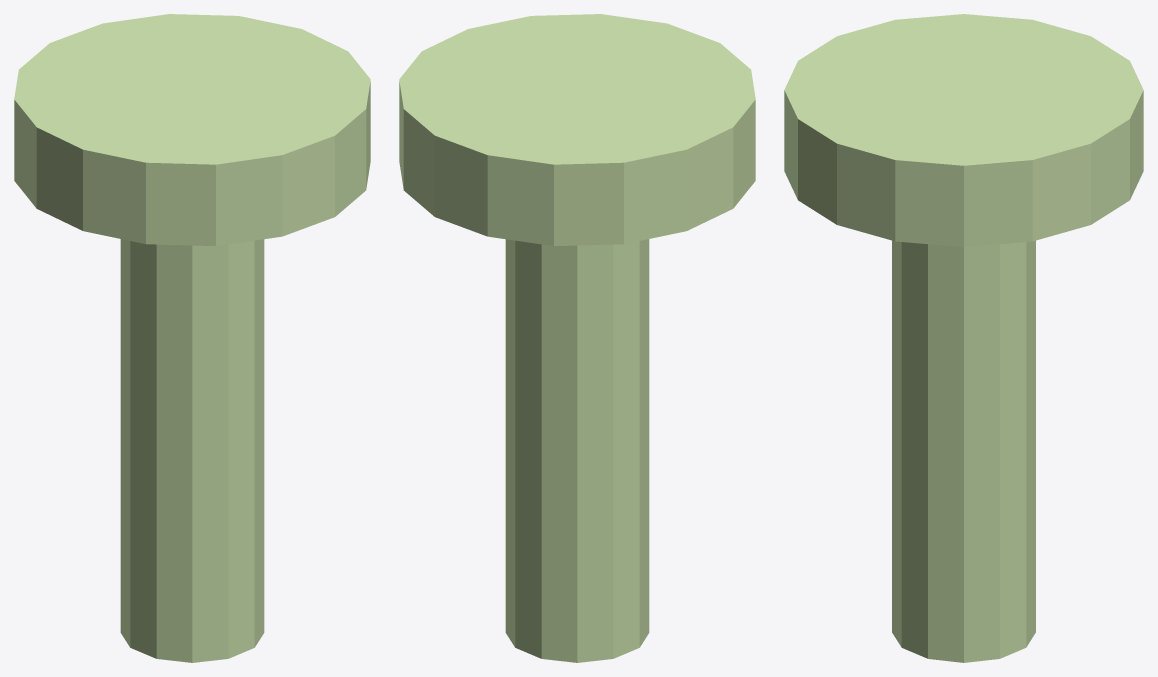
The model's file is zone-2.glb.
3 renders of one model, left to right at view 1: azimuth 30°, elevation 25°; view 2: azimuth 150°, elevation 25°; view 3: azimuth 270°, elevation 25°, orthographic.
Parts seen in each view (by area): view 1: zone-2; view 2: zone-2; view 3: zone-2.
Boxes of the visible parts, x1=… form: zone-2: x1=14, y1=14, x2=370, y2=662; zone-2: x1=399, y1=14, x2=755, y2=662; zone-2: x1=784, y1=14, x2=1143, y2=662.
Size of the model in its own units: 0.6 by 1 by 0.6.
